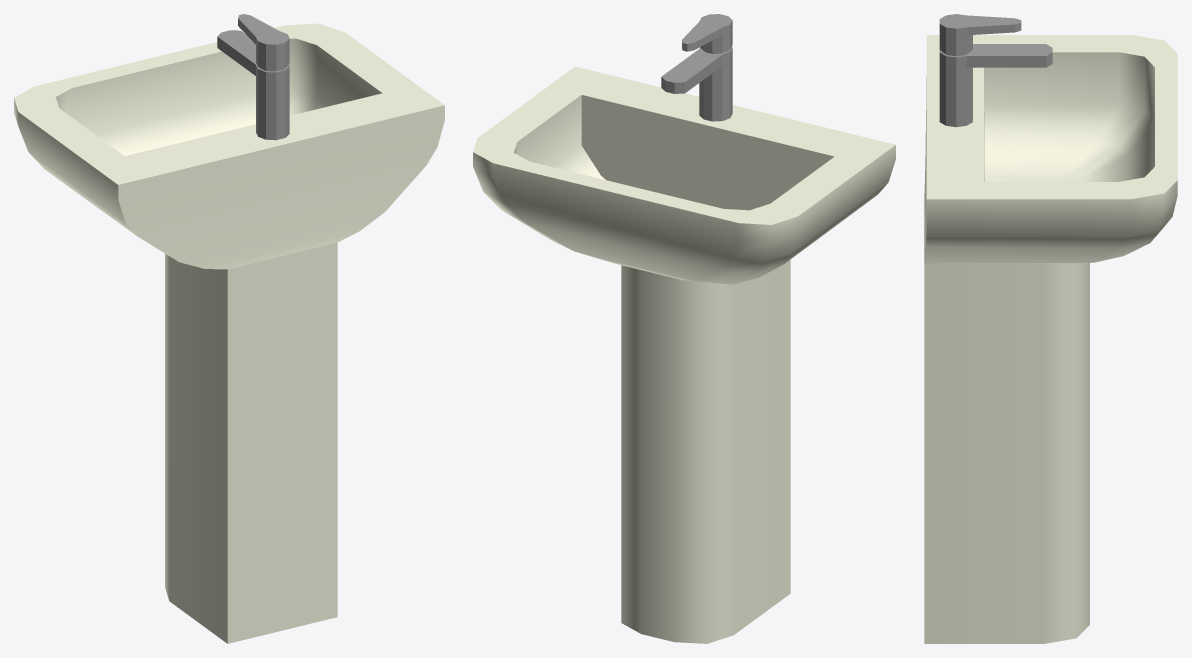
The model's file is Sink.obj.
3 views of the same model, side by side, from view 1: azimuth 30°, elevation 25°; view 2: azimuth 150°, elevation 25°; view 3: azimuth 270°, elevation 25° (orthographic). The views are drawn at different scales.
Visible parts, largest first — view 1: Sink; view 2: Sink; view 3: Sink.
Part boxes in pixels (bbox=[...]): Sink: bbox=[14, 14, 444, 643]; Sink: bbox=[473, 14, 895, 643]; Sink: bbox=[924, 14, 1177, 643].
Size of the model in its own units: 94.29 by 160 by 61.51.
